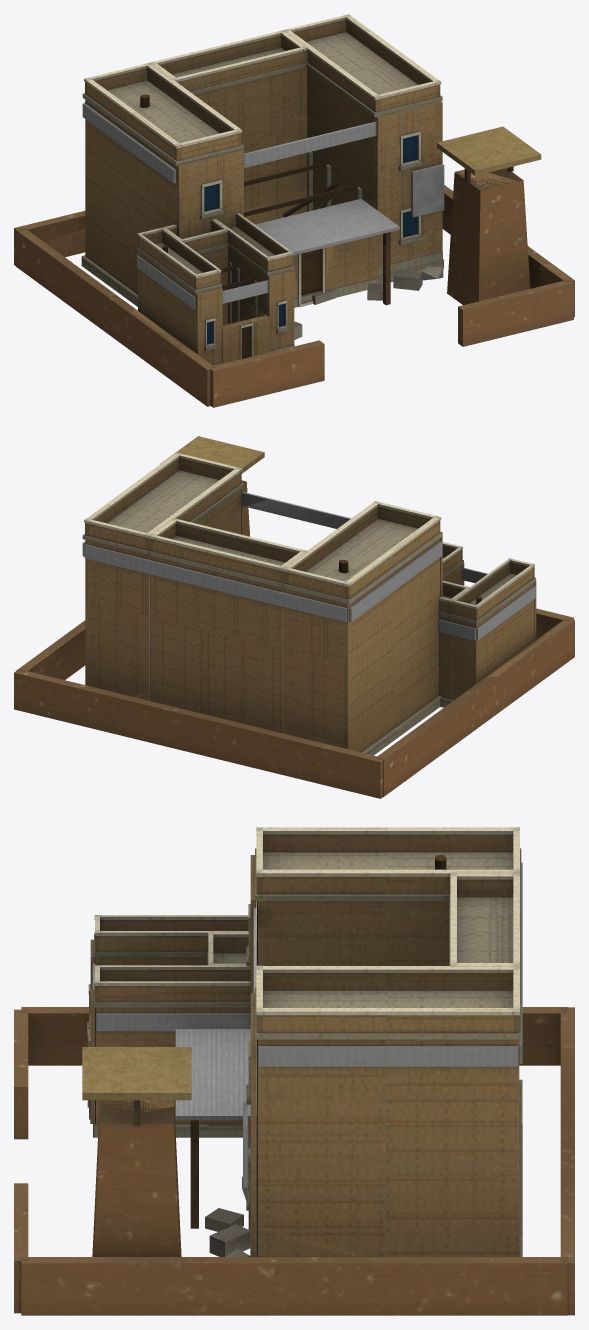
Rendered from civic-bronze-israelite.glb.
3 renders of one model, top to bottom at view 1: azimuth 30°, elevation 25°; view 2: azimuth 150°, elevation 25°; view 3: azimuth 270°, elevation 25°, orthographic. The views are drawn at different scales.
Parts seen in each view (by area): view 1: LOD0, LOD0.001, LOD0.002; view 2: LOD0, LOD0.001, LOD0.002; view 3: LOD0, LOD0.001, LOD0.002.
Part boxes in pixels (x1,y1,x2,y2): LOD0: [14, 14, 574, 407]; LOD0.001: [15, 67, 573, 339]; LOD0.002: [14, 191, 574, 406]; LOD0: [14, 436, 574, 798]; LOD0.001: [14, 451, 479, 798]; LOD0.002: [89, 609, 573, 797]; LOD0: [14, 827, 574, 1315]; LOD0.001: [21, 836, 574, 1315]; LOD0.002: [14, 1009, 574, 1315].
Size of what is drawn, in the model's own units: 1.88 by 0.92 by 1.75.
2 materials, 2 textured.
